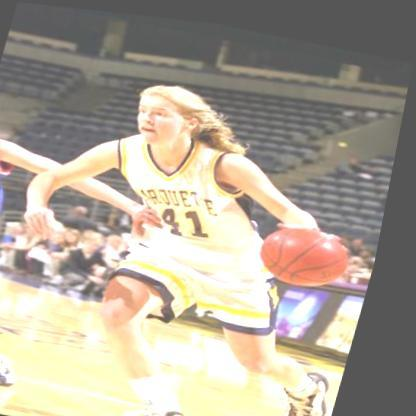basketball: (262, 211, 362, 288)
